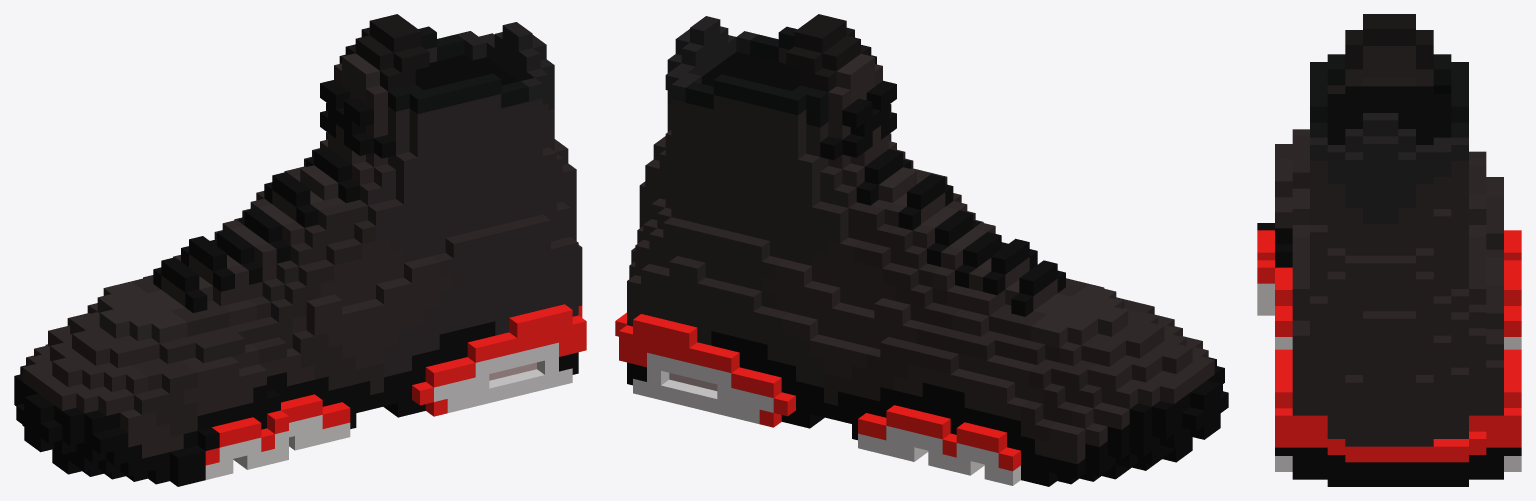
File: Laser Vision.fbx
The picture shows the model from 3 angles, left to right: view 1: azimuth 30°, elevation 25°; view 2: azimuth 150°, elevation 25°; view 3: azimuth 270°, elevation 25°; orthographic projection. The views are drawn at different scales.
Visible parts, largest first — view 1: Untitled; view 2: Untitled; view 3: Untitled.
Boxes of the visible parts, bbox=[...] form: Untitled: bbox=[14, 14, 586, 486]; Untitled: bbox=[615, 14, 1228, 486]; Untitled: bbox=[1257, 14, 1521, 486].
Size of the model in its own units: 390 by 240 by 150.
